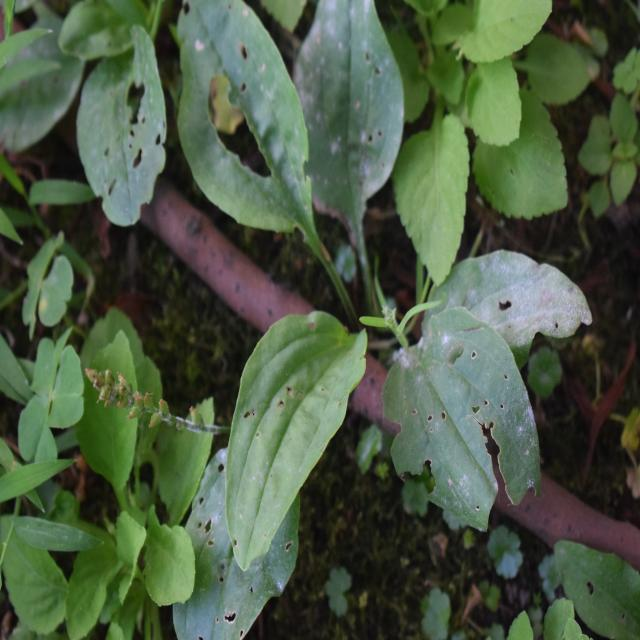plantain: (158, 0, 538, 556)
